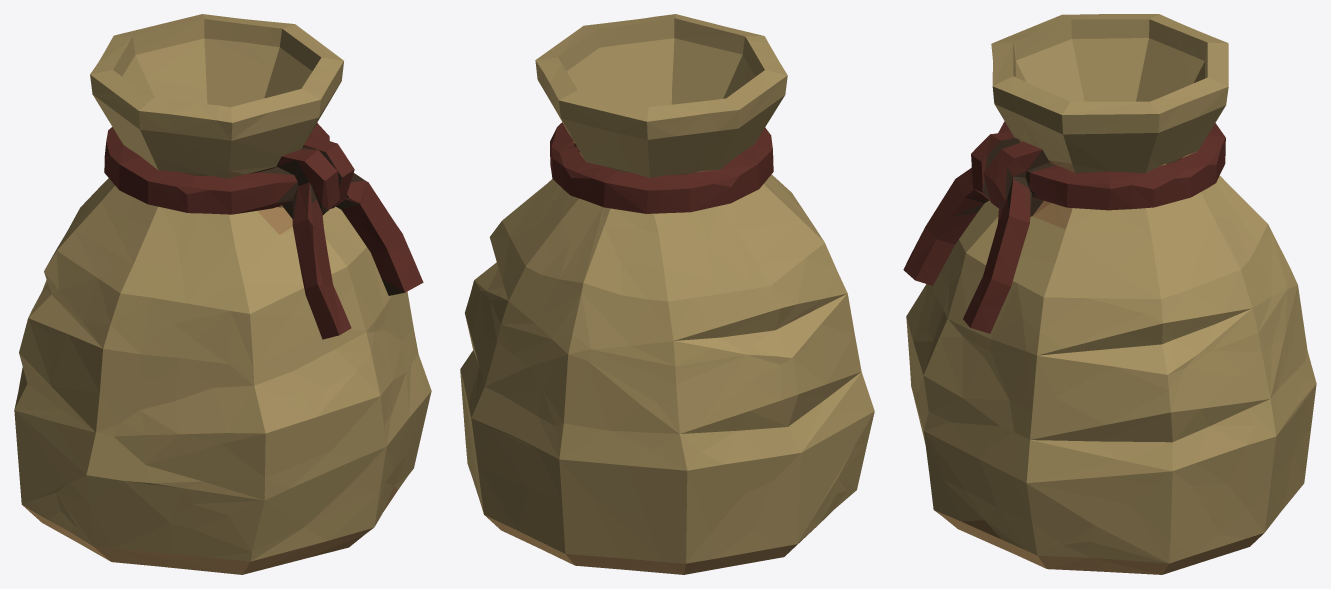
Rendered from mdvl_props_sack_01.fbx.
3 views of the same model, side by side, from view 1: azimuth 30°, elevation 25°; view 2: azimuth 150°, elevation 25°; view 3: azimuth 270°, elevation 25° (orthographic).
Parts seen in each view (by area): view 1: mdvl_props_sack_01; view 2: mdvl_props_sack_01; view 3: mdvl_props_sack_01.
Part boxes in pixels (box(x1,y1,x2,y2)): mdvl_props_sack_01: box(14, 14, 431, 574); mdvl_props_sack_01: box(460, 14, 874, 574); mdvl_props_sack_01: box(903, 14, 1316, 574).
Size of the model in its own units: 0.5183 by 0.5374 by 0.6359.
